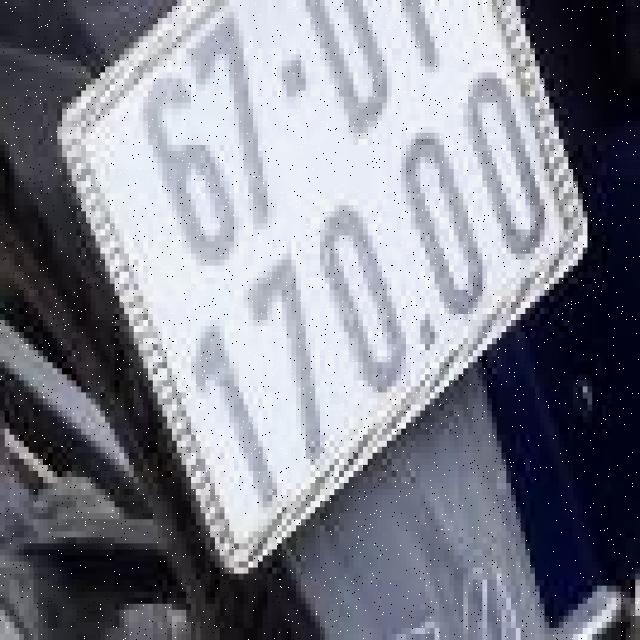0: (303, 183, 423, 423), (383, 104, 500, 338), (449, 49, 560, 287)
1: (173, 293, 297, 532)
6: (129, 57, 255, 293)
7: (179, 0, 293, 249), (235, 234, 345, 490)
D: (283, 0, 408, 159)
